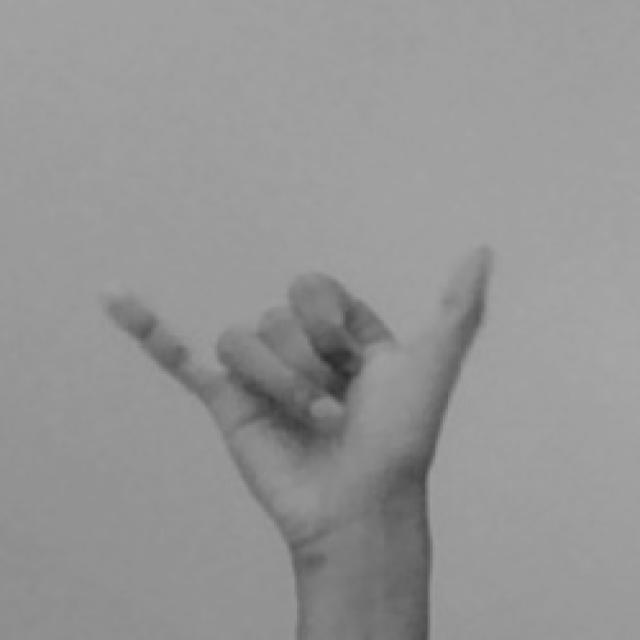Y: (89, 228, 503, 640)
